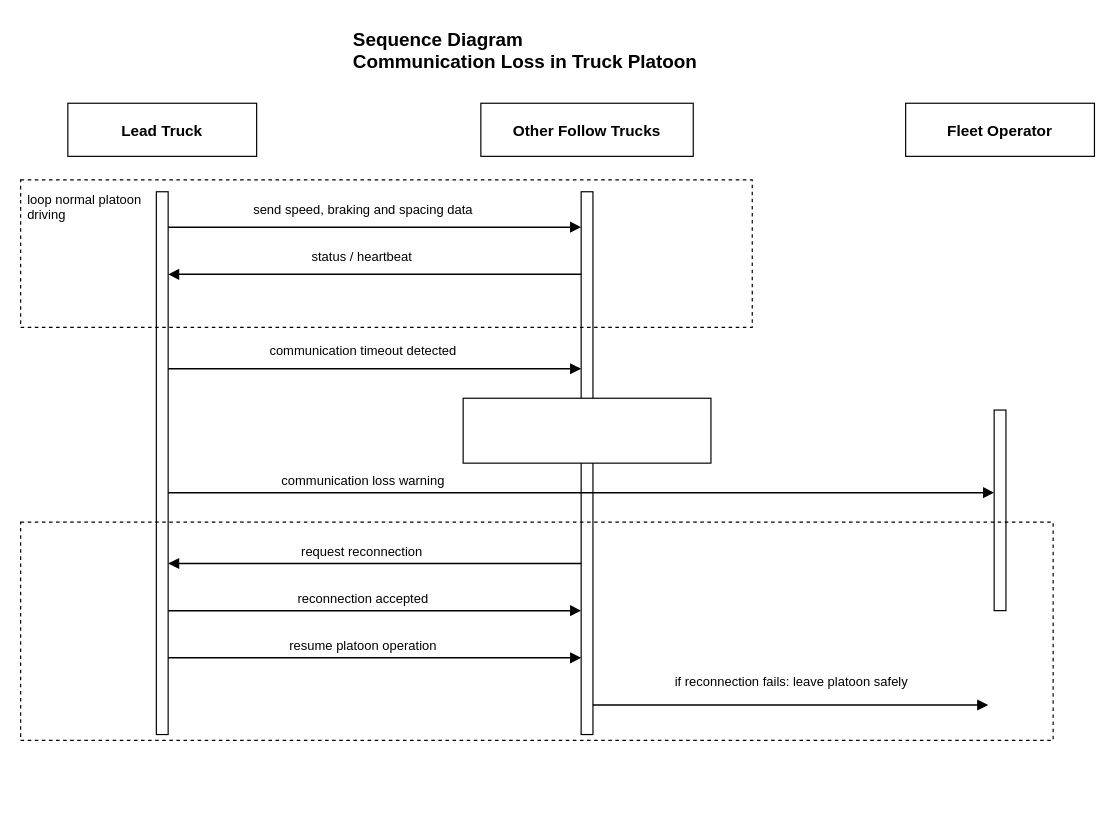
This 1115x838 diagram has some shape labels left out. Each missing label, with the centre of its shape:
Affected follow truck enters safe mode and increases distance: [586,430]
alt communication restored / communication not restored: [536,630]
